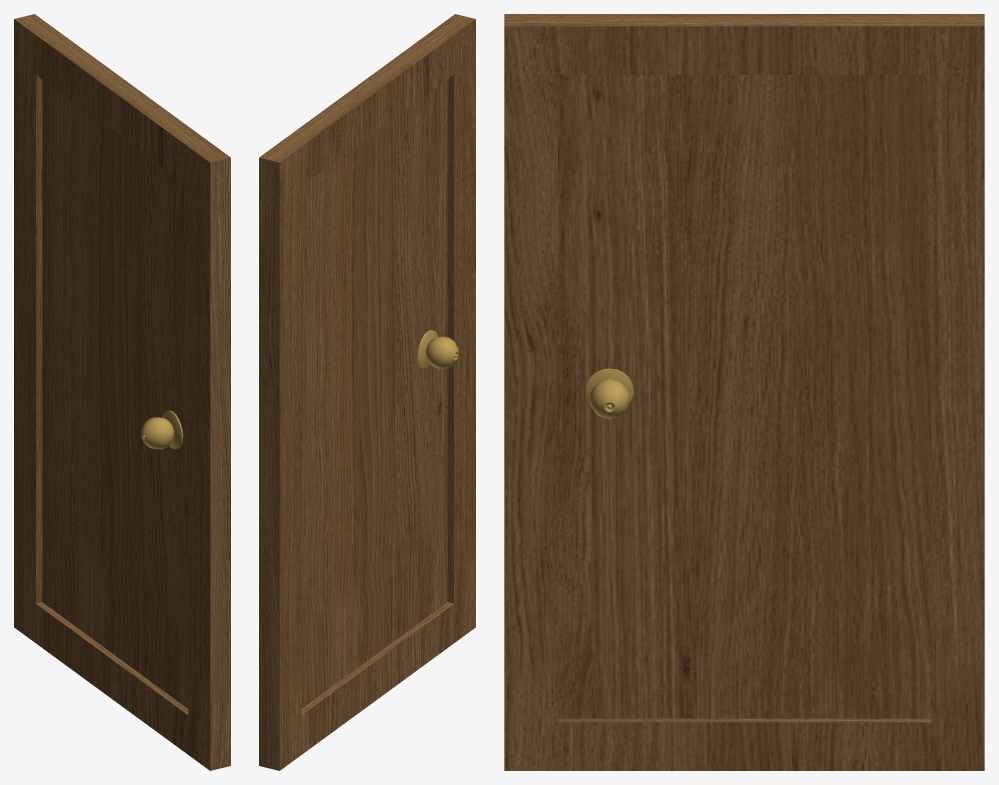
File: Eden_toiletdoor.fbx
The picture shows the model from 3 angles, left to right: view 1: azimuth 30°, elevation 25°; view 2: azimuth 150°, elevation 25°; view 3: azimuth 270°, elevation 25°; orthographic projection. The views are drawn at different scales.
Visible parts, largest first — view 1: polySurface164; view 2: polySurface164; view 3: polySurface164.
Part boxes in pixels (x1,y1,x2,y2): polySurface164: (14, 14, 230, 770); polySurface164: (259, 14, 475, 770); polySurface164: (504, 14, 984, 770).
Bounding box in the file's own units: 0.00719 × 0.0613 × 0.0358.
2 materials, 1 textured.
